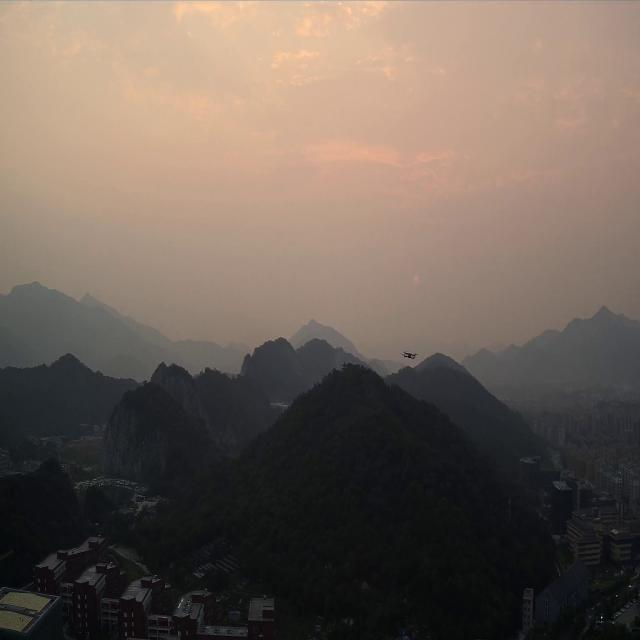drone: (400, 351, 418, 359)
